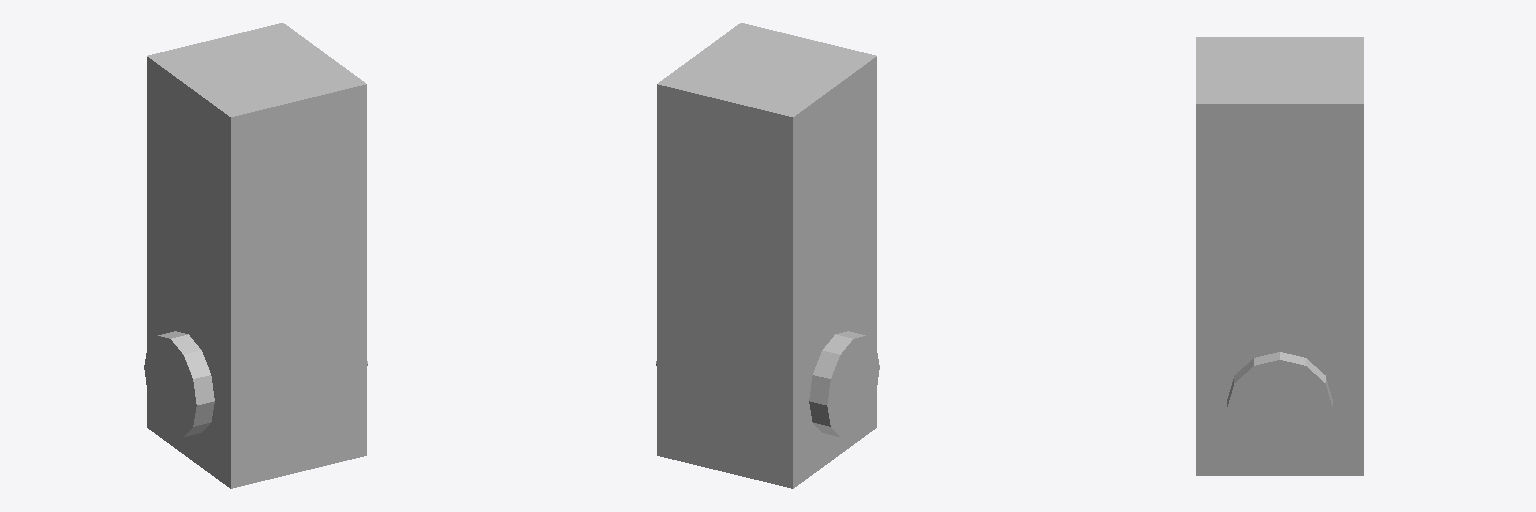
File: Neck.obj
3 views of the same model, side by side, from view 1: azimuth 30°, elevation 25°; view 2: azimuth 150°, elevation 25°; view 3: azimuth 270°, elevation 25° (orthographic).
Bounding box in the file's own units: 4.7 × 9.75 × 4.